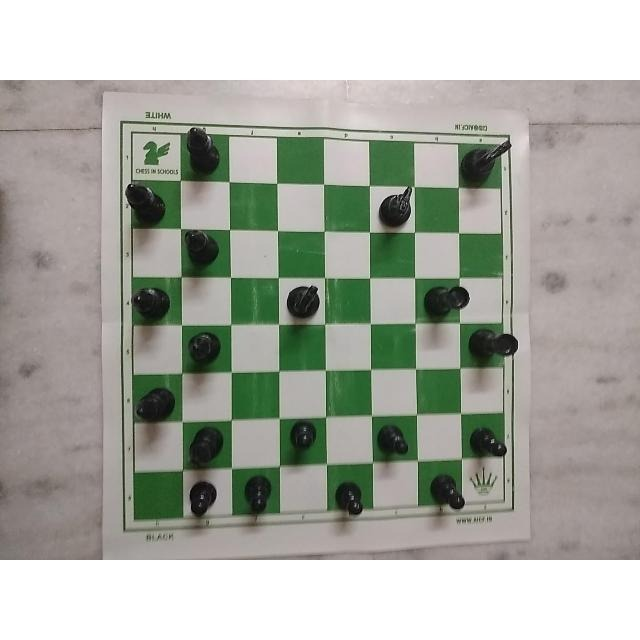black-bishop: (119, 179, 174, 229), (185, 424, 233, 478), (183, 120, 223, 182), (121, 280, 182, 319), (128, 381, 180, 426), (185, 333, 235, 377), (180, 228, 223, 272)
black-knight: (461, 136, 514, 185), (279, 279, 327, 322), (377, 185, 414, 232)
black-pawn: (431, 466, 473, 518), (235, 472, 282, 516), (375, 422, 418, 465), (470, 428, 514, 466), (185, 484, 226, 522), (286, 415, 321, 458), (335, 481, 367, 522)
black-rook: (462, 327, 520, 369), (423, 277, 469, 322)
